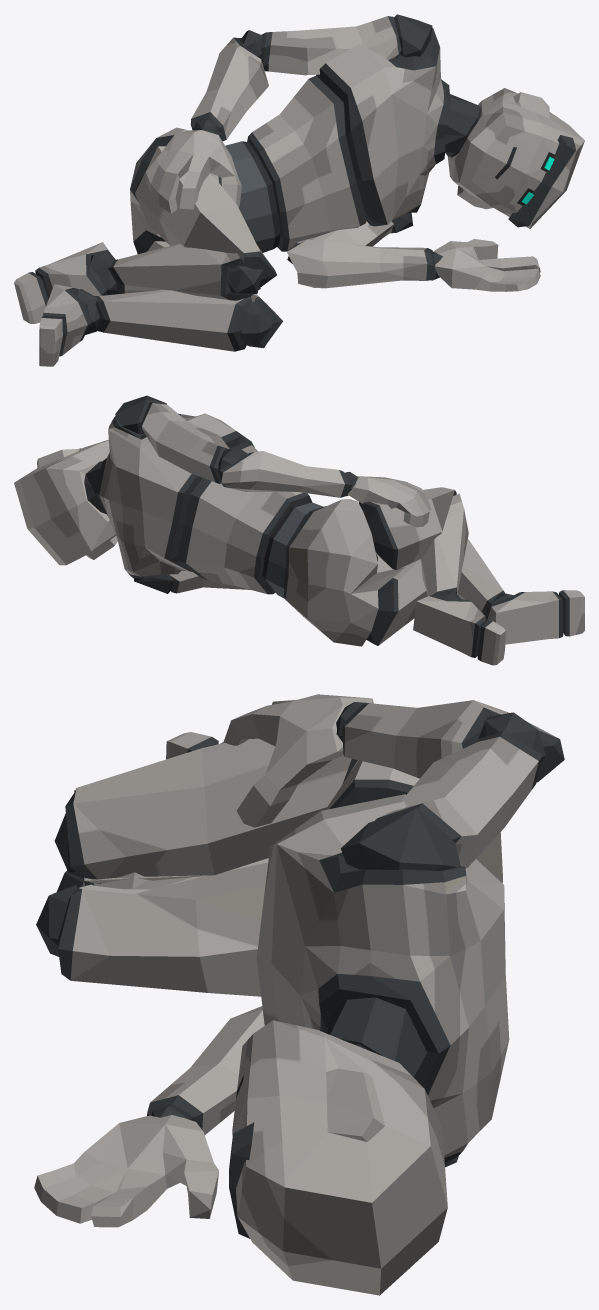
Rendered from cyber_SM_Prop_Robot_Posed_02.gltf.
The picture shows the model from 3 angles, top to bottom: view 1: azimuth 30°, elevation 25°; view 2: azimuth 150°, elevation 25°; view 3: azimuth 270°, elevation 25°; orthographic projection. The views are drawn at different scales.
Visible parts, largest first — view 1: SM_Prop_Robot_Posed_02; view 2: SM_Prop_Robot_Posed_02; view 3: SM_Prop_Robot_Posed_02.
Part boxes in pixels (left/top/right/bottom): SM_Prop_Robot_Posed_02: left=14, top=14, right=584, bottom=366; SM_Prop_Robot_Posed_02: left=14, top=395, right=584, bottom=665; SM_Prop_Robot_Posed_02: left=34, top=694, right=564, bottom=1295.
Bounding box in the file's own units: 1.39 × 0.5021 × 0.6088.
Materials: 1 (1 with a texture image).
